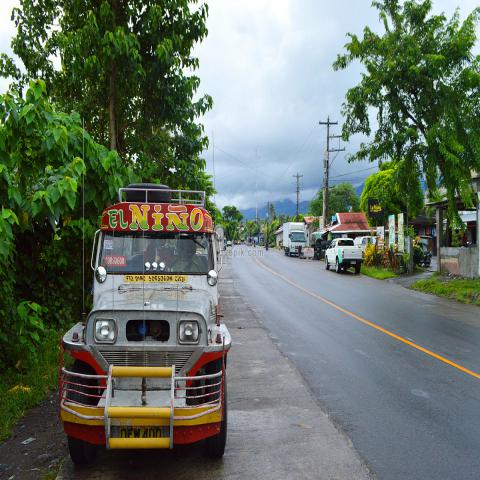truck: (63, 202, 222, 469), (327, 239, 365, 275), (282, 219, 308, 260)
